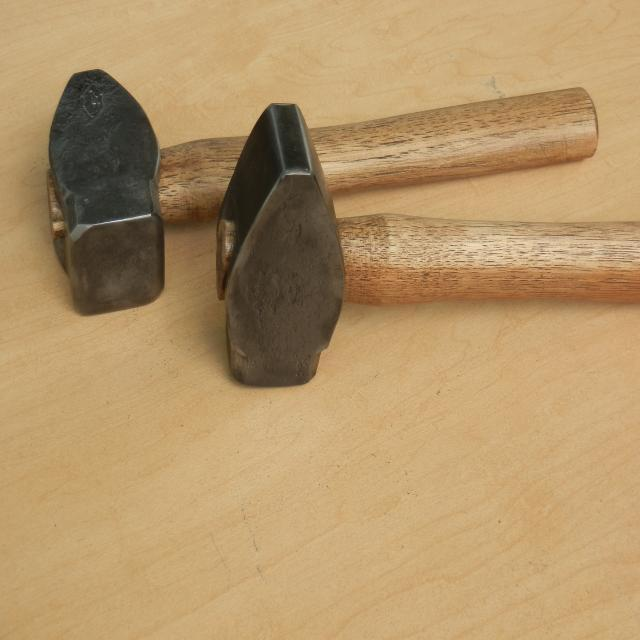hammer: (36, 46, 612, 317), (195, 98, 640, 398)
